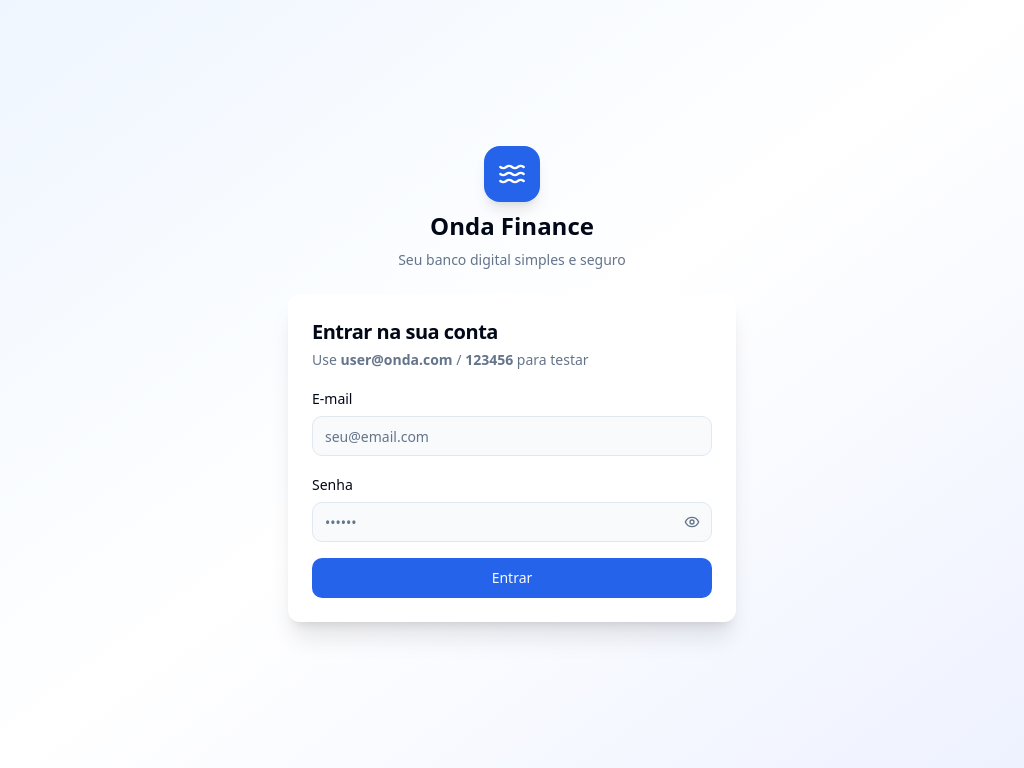
it: Login Page › shows validation error for invalid email
Type "not-an-email" into the field labelled "E-mail". click: (512, 436)
box: [312,416,712,456]
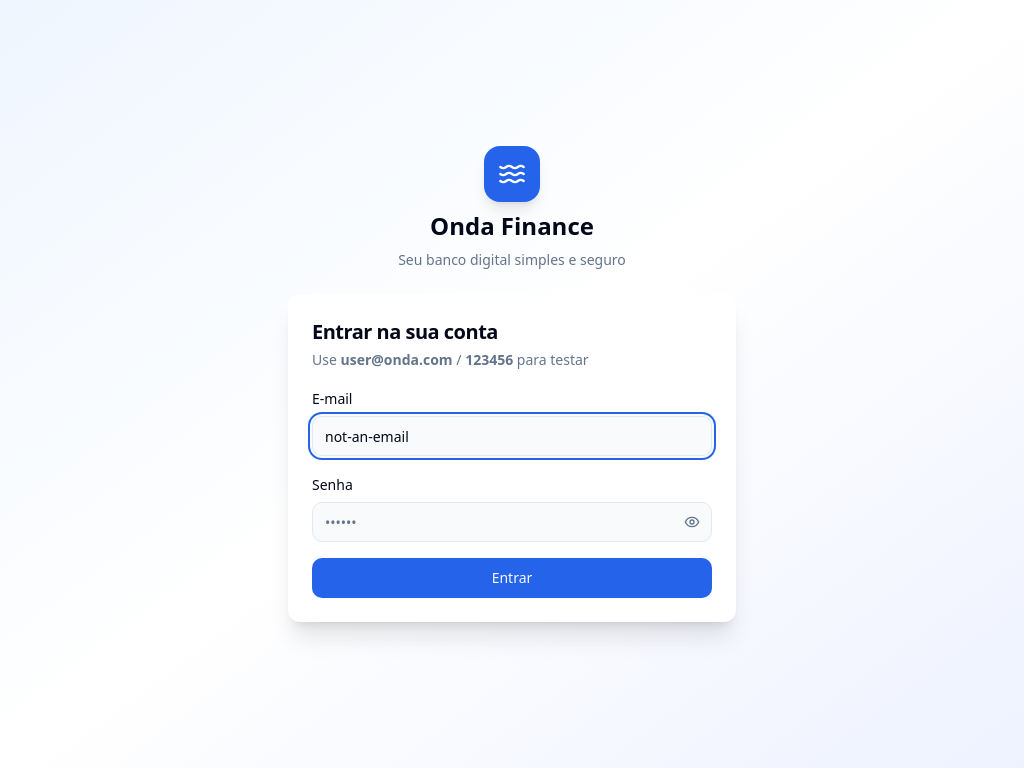
Type "123456" into the password field with placeholder "••••••". click: (512, 522)
box: [312,502,712,542]
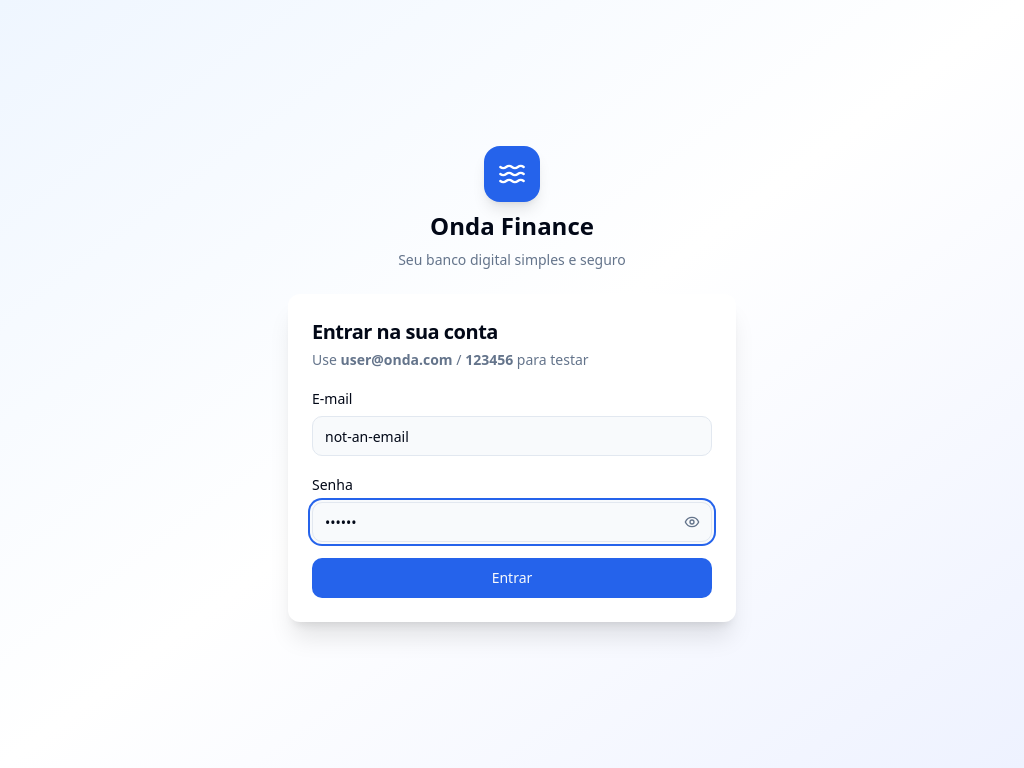
Click the button "Entrar". click: (512, 578)
box: [312,558,712,598]
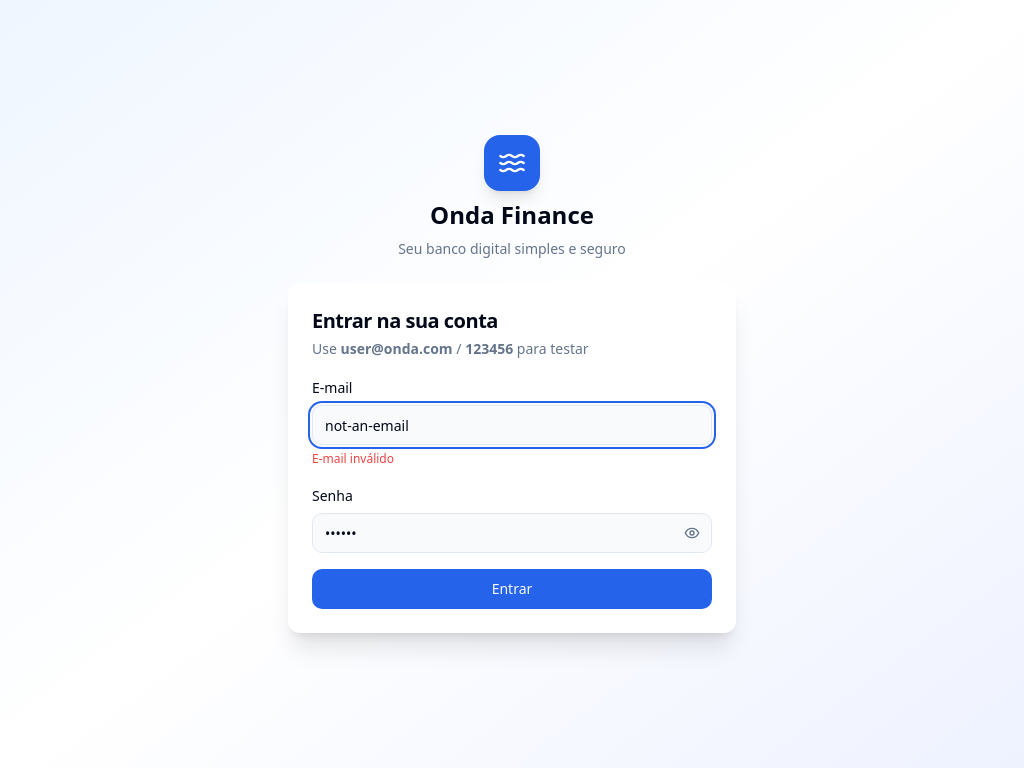
Now the text "E-mail inválido" is shown, box [312,450,394,467]
